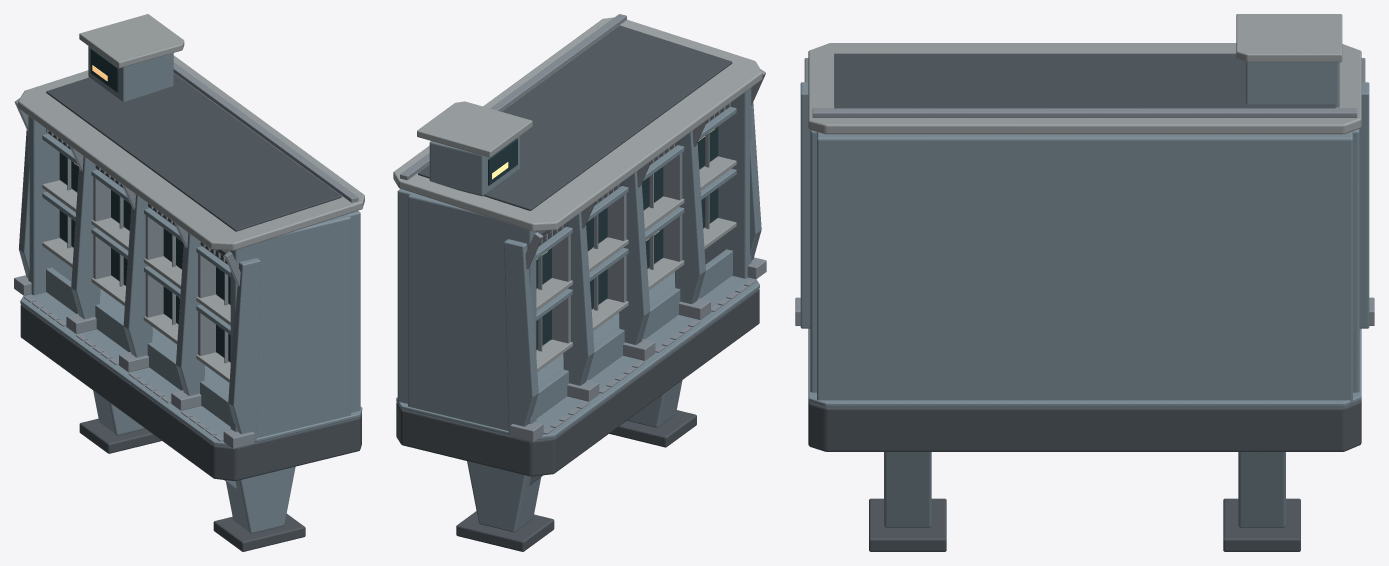
The model's file is NA_CivicFacade_A_LOD0.fbx.
3 views of the same model, side by side, from view 1: azimuth 30°, elevation 25°; view 2: azimuth 150°, elevation 25°; view 3: azimuth 270°, elevation 25° (orthographic). The views are drawn at different scales.
Visible parts, largest first — view 1: NA_CivicFacade_A_LOD0; view 2: NA_CivicFacade_A_LOD0; view 3: NA_CivicFacade_A_LOD0.
Boxes of the visible parts, box(x1,y1,x2,y2) form: NA_CivicFacade_A_LOD0: box(14, 14, 364, 551); NA_CivicFacade_A_LOD0: box(393, 14, 766, 551); NA_CivicFacade_A_LOD0: box(795, 14, 1374, 551).
Bounding box in the file's own units: 10.76 × 26.12 × 26.8.
